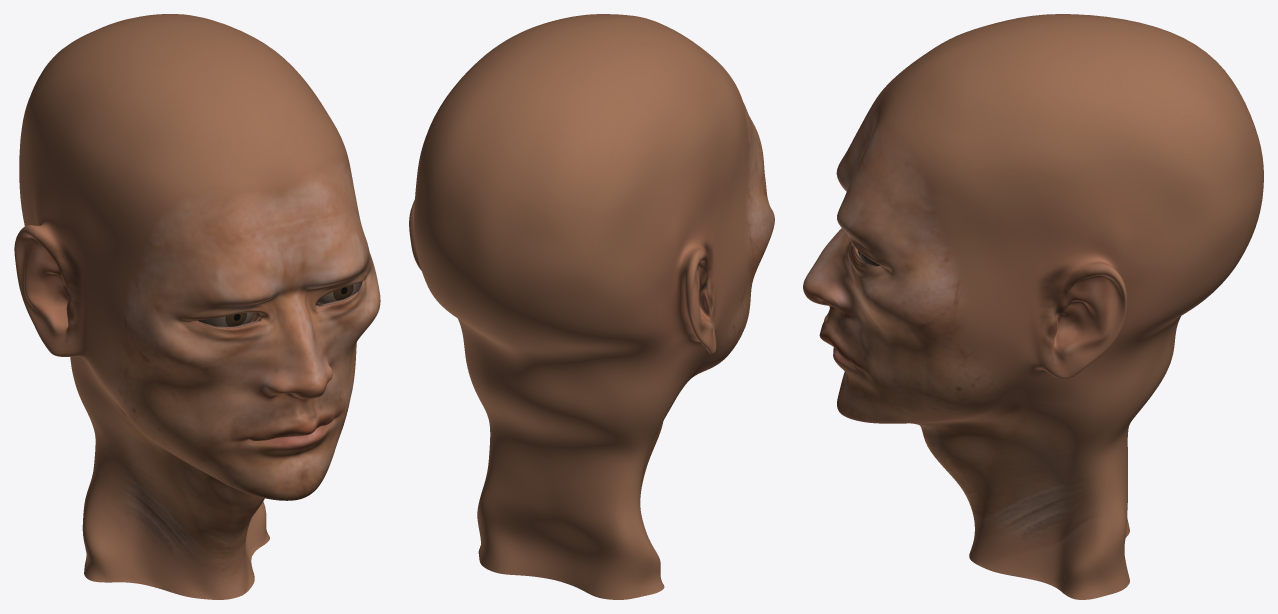
File: ShenShang_Archive04.glb
3 renders of one model, left to right at view 1: azimuth 30°, elevation 25°; view 2: azimuth 150°, elevation 25°; view 3: azimuth 270°, elevation 25°, orthographic.
Visible parts, largest first — view 1: ShenShang_Head, Eye.R; view 2: ShenShang_Head; view 3: ShenShang_Head.
Boxes of the visible parts, x1=… form: ShenShang_Head: x1=14, y1=14, x2=380, y2=599; Eye.R: x1=198, y1=312, x2=254, y2=326; ShenShang_Head: x1=409, y1=14, x2=774, y2=599; ShenShang_Head: x1=803, y1=14, x2=1263, y2=599.
Size of the model in its own units: 0.1806 by 0.3186 by 0.2535.
8 materials, 1 textured.
